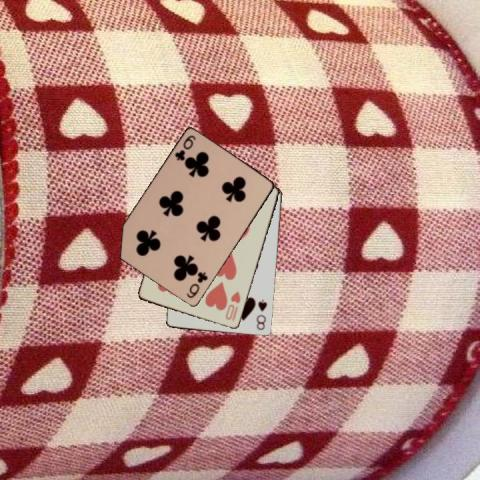10h: (223, 288, 242, 322)
6c: (184, 269, 210, 300), (172, 132, 197, 162)
8s: (254, 296, 269, 331)
